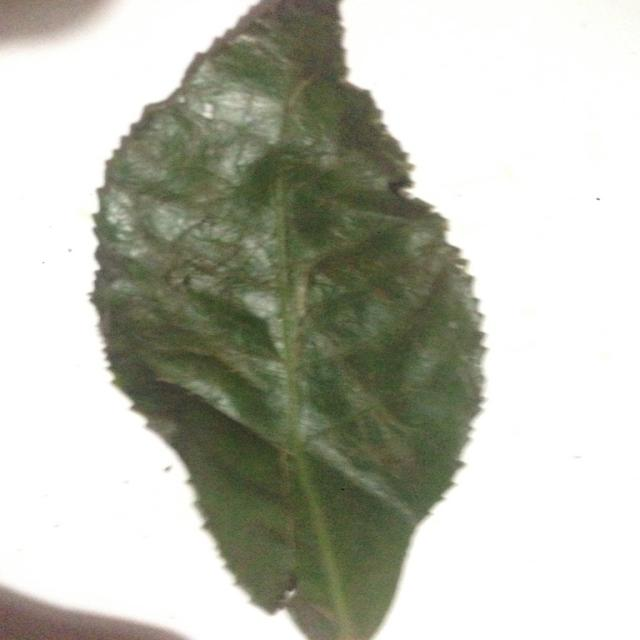Red Leaf Spot: (76, 3, 506, 635)
